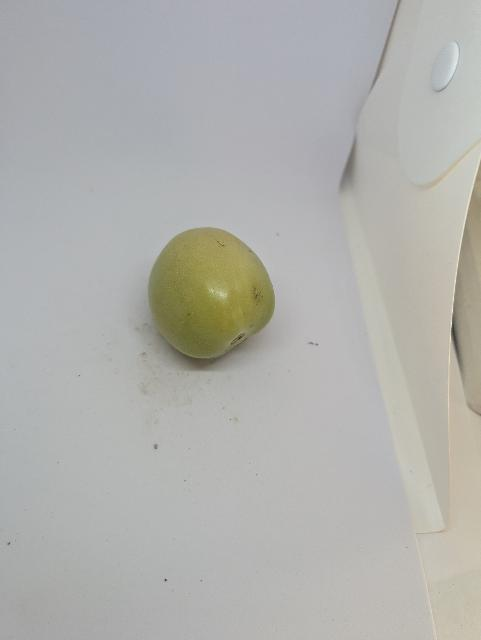green: (146, 226, 278, 362)
